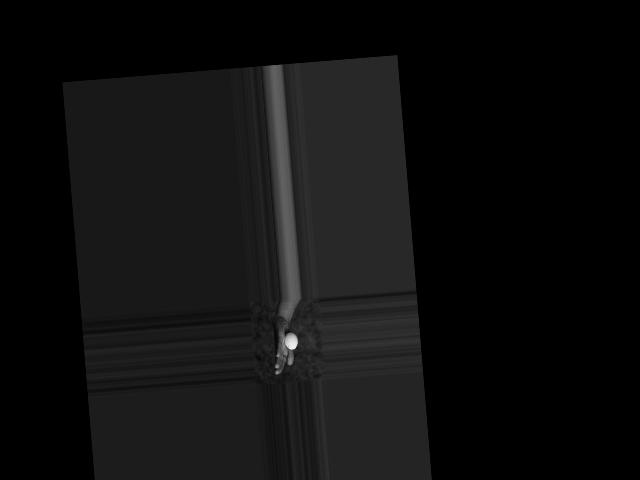egg: (283, 331, 298, 349)
